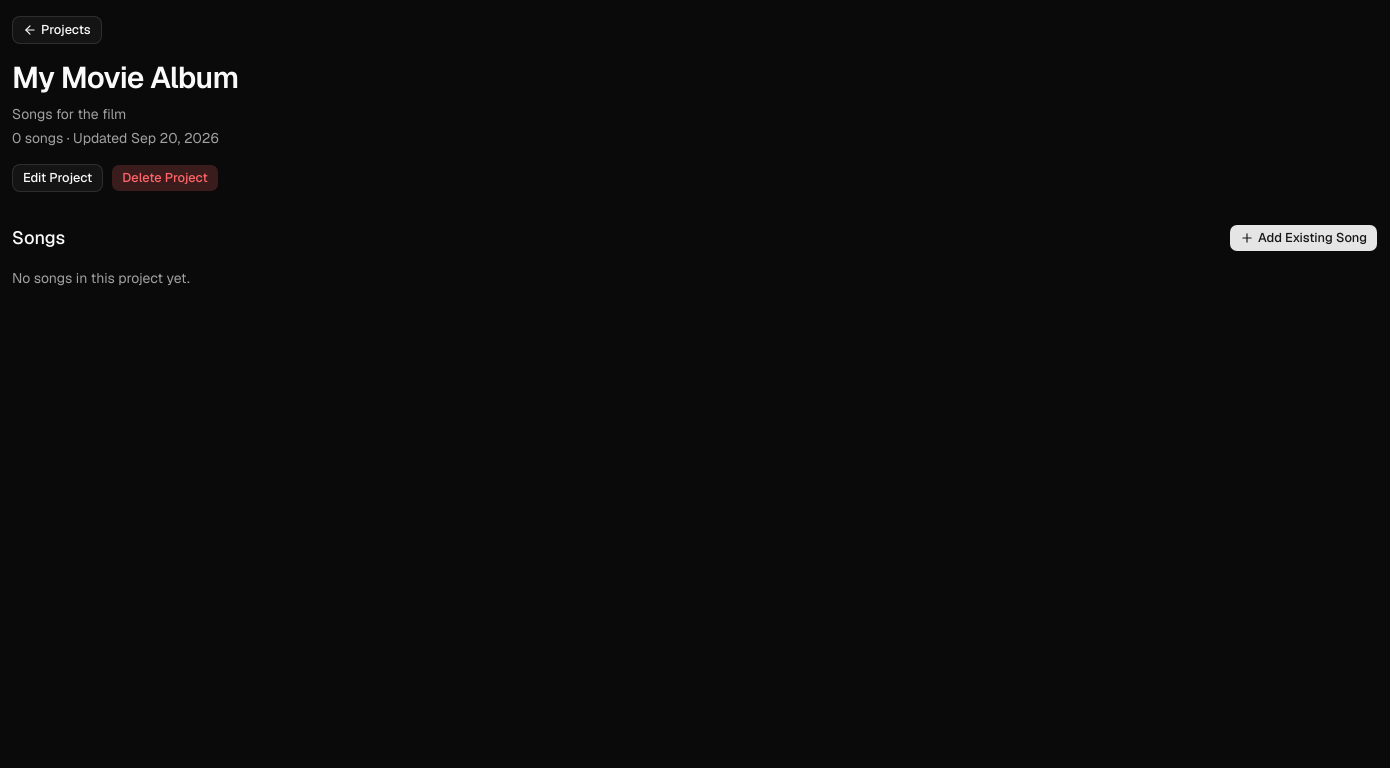
Test: ProjectDetailsView › edits the project's name and description
Expected: the heading "My Movie Album" is shown, 12,58 -> 238,97
Click the button "Edit Project" at [58, 178], box 12,164 -> 103,192
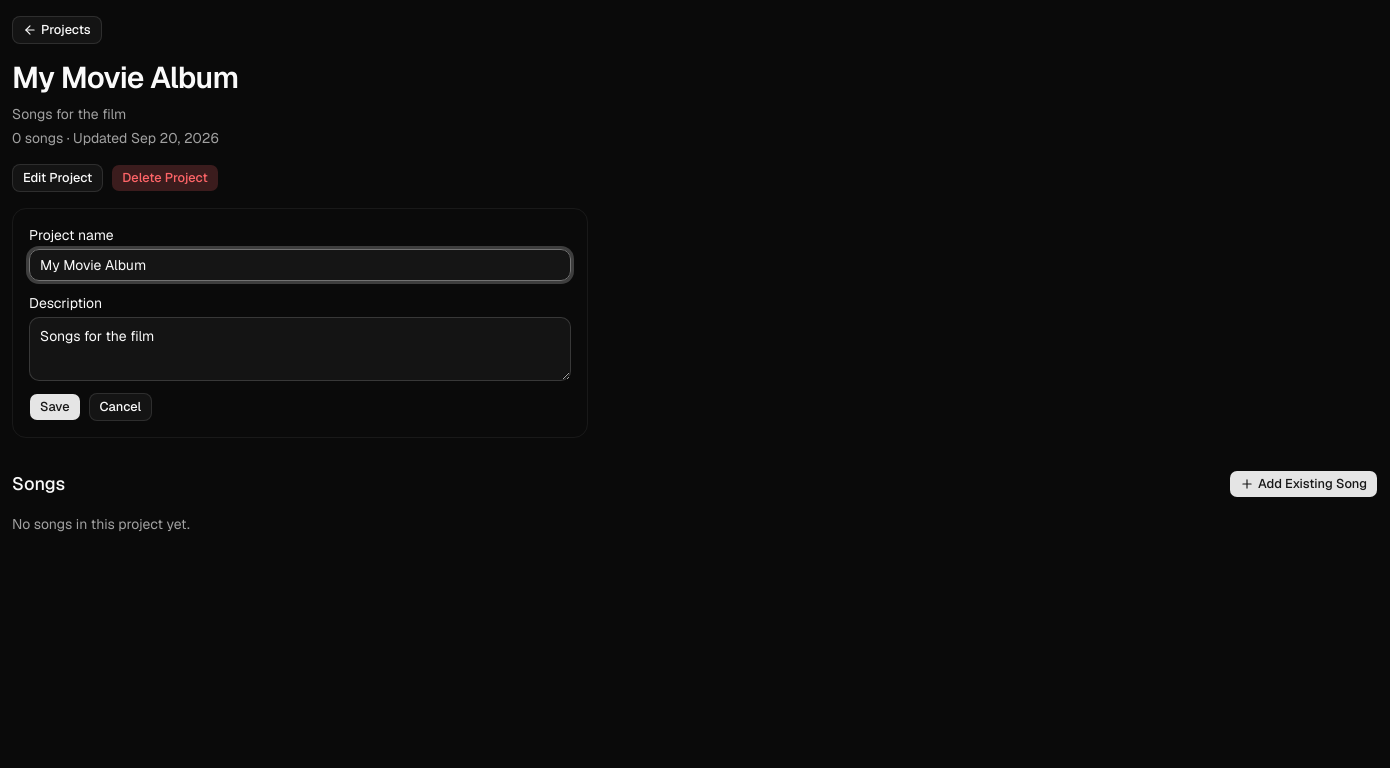
Replace the text in the field labelled "Project name" with "Movie Album" at [300, 265], box 29,249 -> 571,281
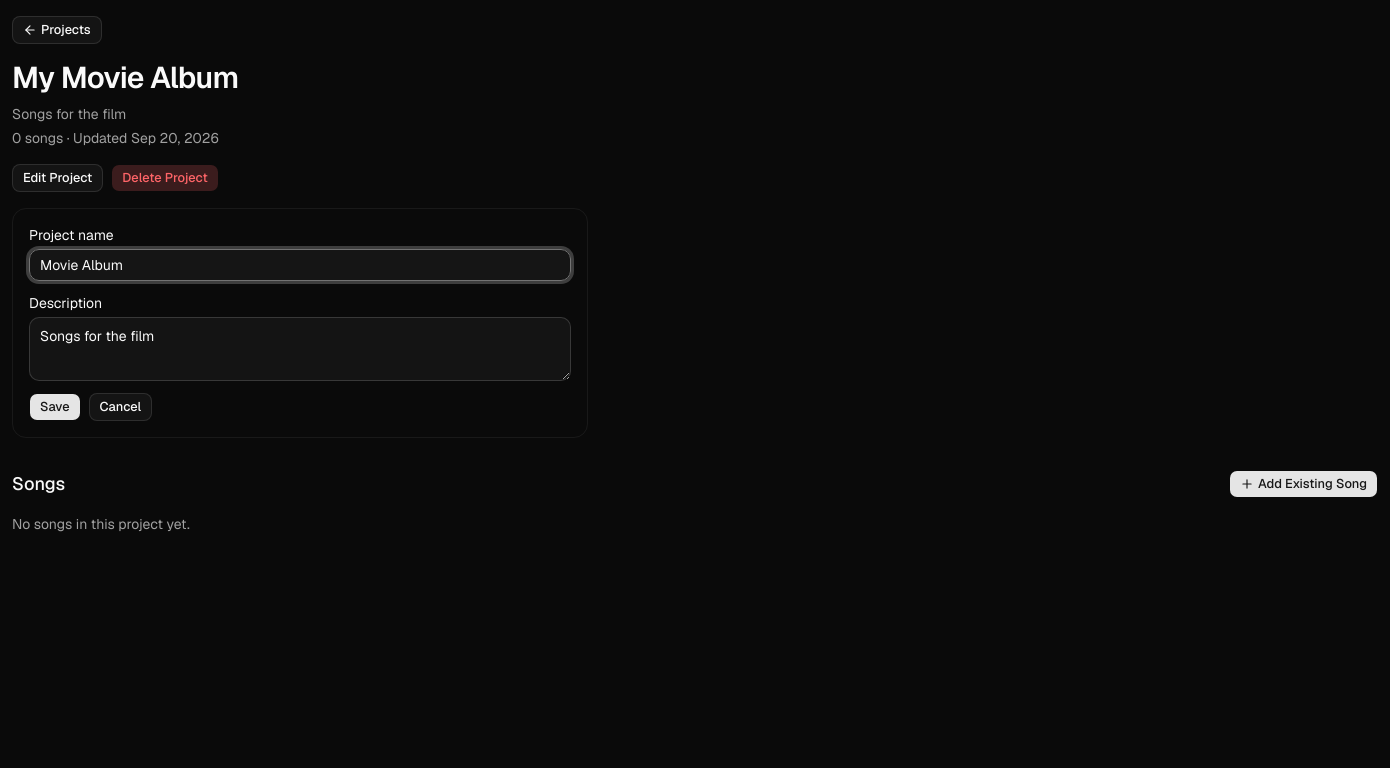
Click the button "Save" at [55, 407], box 29,393 -> 80,421
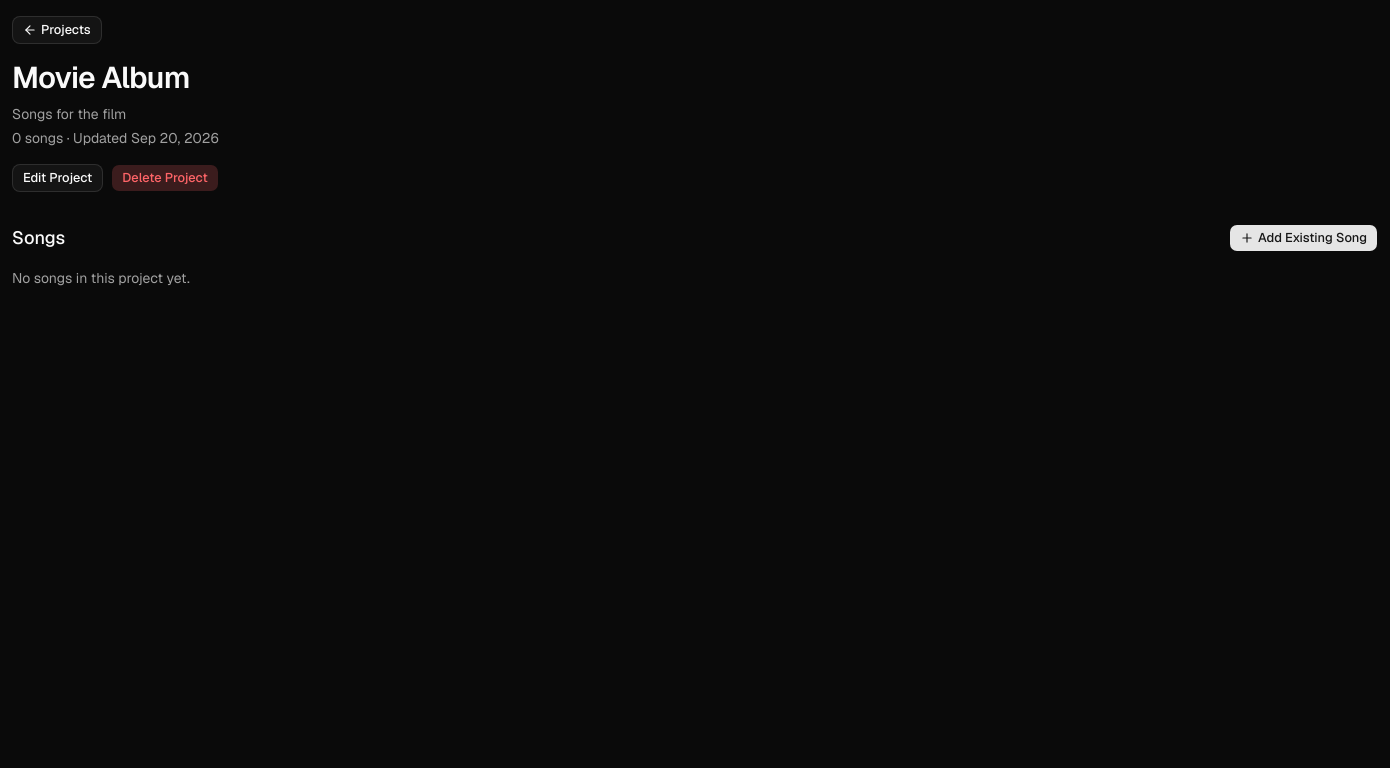
Expected: the heading with test id "project-title" reads "Movie Album", 12,58 -> 190,97
Expected: the form with test id "edit-project-form" is gone
